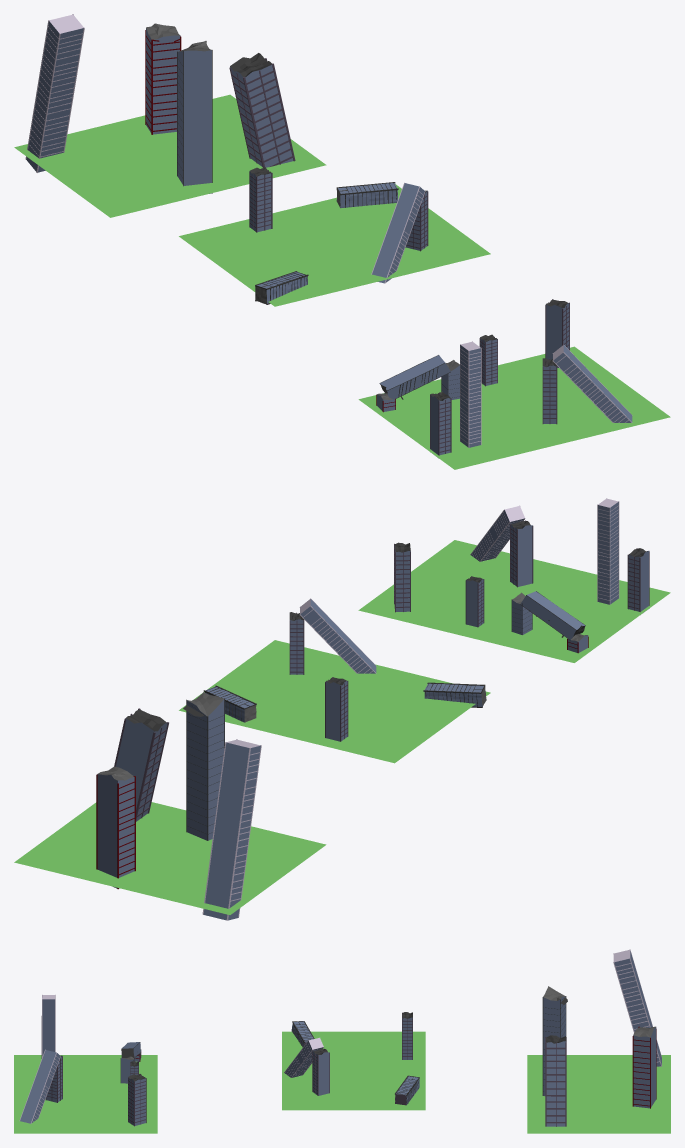
Rendered from CityAssets.fbx.
The picture shows the model from 3 angles, top to bottom: view 1: azimuth 30°, elevation 25°; view 2: azimuth 150°, elevation 25°; view 3: azimuth 270°, elevation 25°; orthographic projection. The views are drawn at different scales.
Visible parts, largest first — view 1: Plane.011, Plane.014, Plane.013; view 2: Plane.011, Plane.014, Plane.013; view 3: Plane.011, Plane.014, Plane.013.
Part boxes in pixels (<box>): Plane.011: <box>14,14,326,217</box>; Plane.014: <box>358,299,670,469</box>; Plane.013: <box>179,167,490,306</box>; Plane.011: <box>14,692,326,920</box>; Plane.014: <box>358,498,670,662</box>; Plane.013: <box>179,598,490,763</box>; Plane.011: <box>527,949,670,1133</box>; Plane.014: <box>14,994,157,1133</box>; Plane.013: <box>282,1012,425,1110</box>.
Size of the model in its own units: 6074 by 4219 by 20874.
